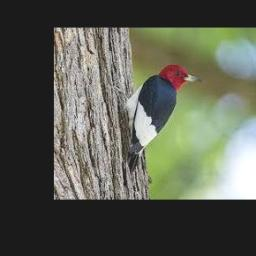Woodpecker: (114, 64, 202, 172)
